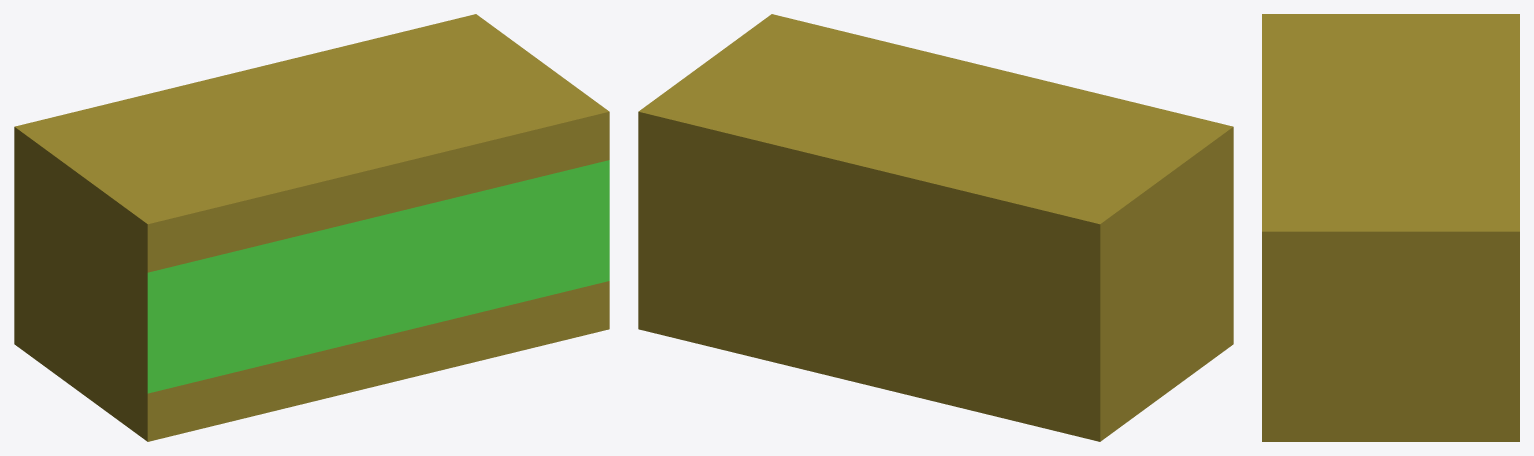
Rendered from Architrav_Body_low.fbx.
3 views of the same model, side by side, from view 1: azimuth 30°, elevation 25°; view 2: azimuth 150°, elevation 25°; view 3: azimuth 270°, elevation 25° (orthographic). The views are drawn at different scales.
Visible parts, largest first — view 1: Architrav_Body_low; view 2: Architrav_Body_low; view 3: Architrav_Body_low.
Boxes of the visible parts, x1=… form: Architrav_Body_low: x1=14, y1=14, x2=609, y2=441; Architrav_Body_low: x1=638, y1=14, x2=1233, y2=441; Architrav_Body_low: x1=1262, y1=14, x2=1519, y2=441.
Bounding box in the file's own units: 2 × 0.9 × 1.
